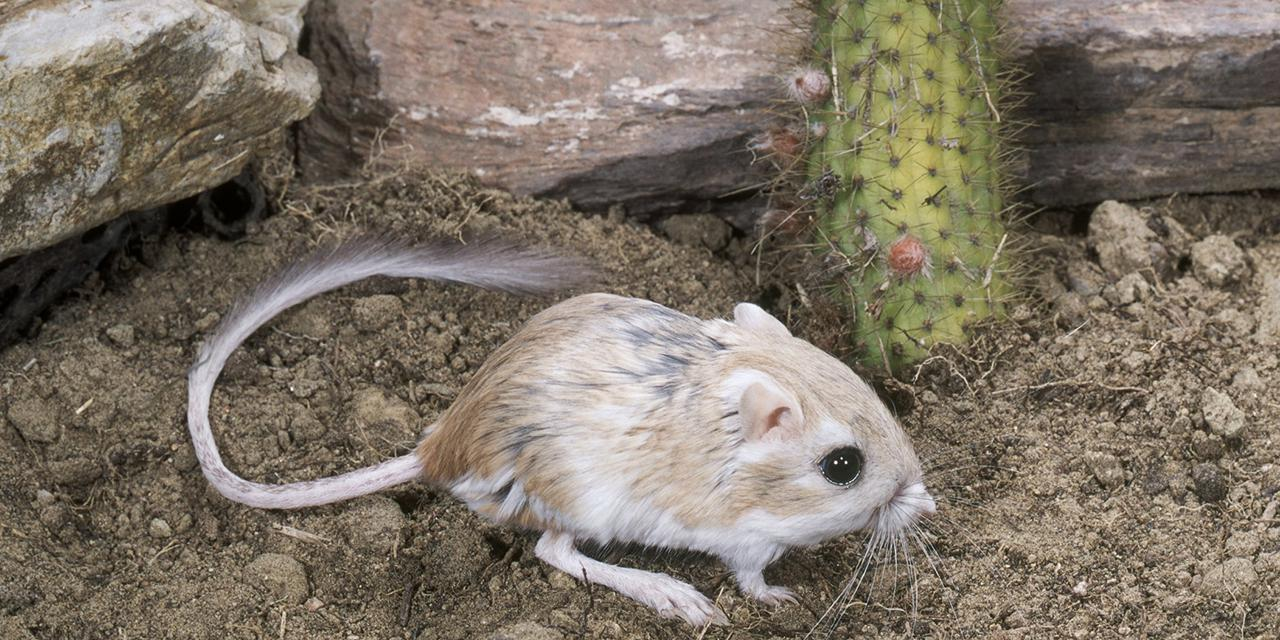rat: (188, 241, 934, 622)
